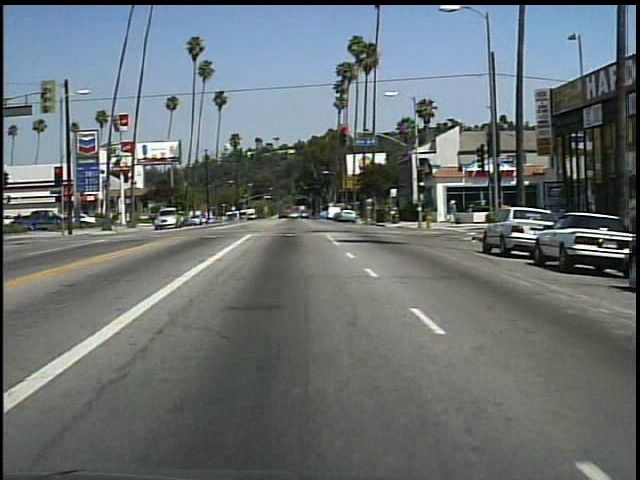person: (446, 196, 461, 228)
